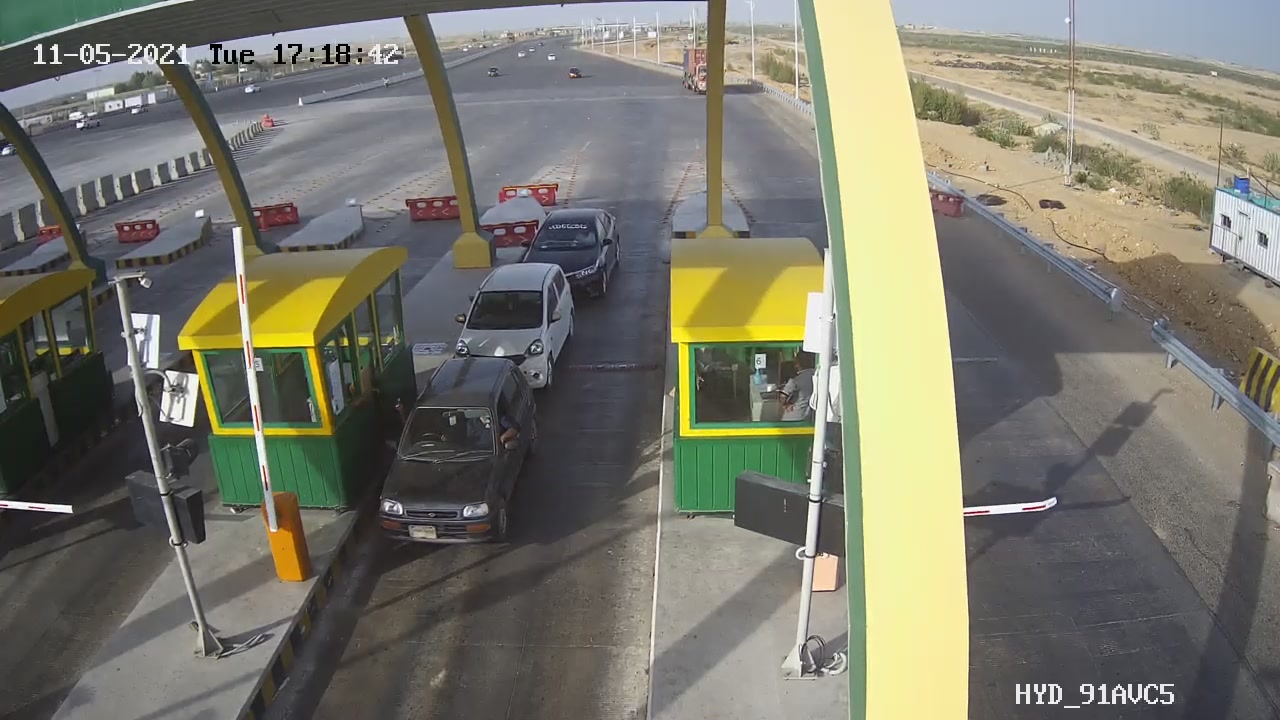F1: (365, 344, 548, 559), (443, 252, 592, 403)
